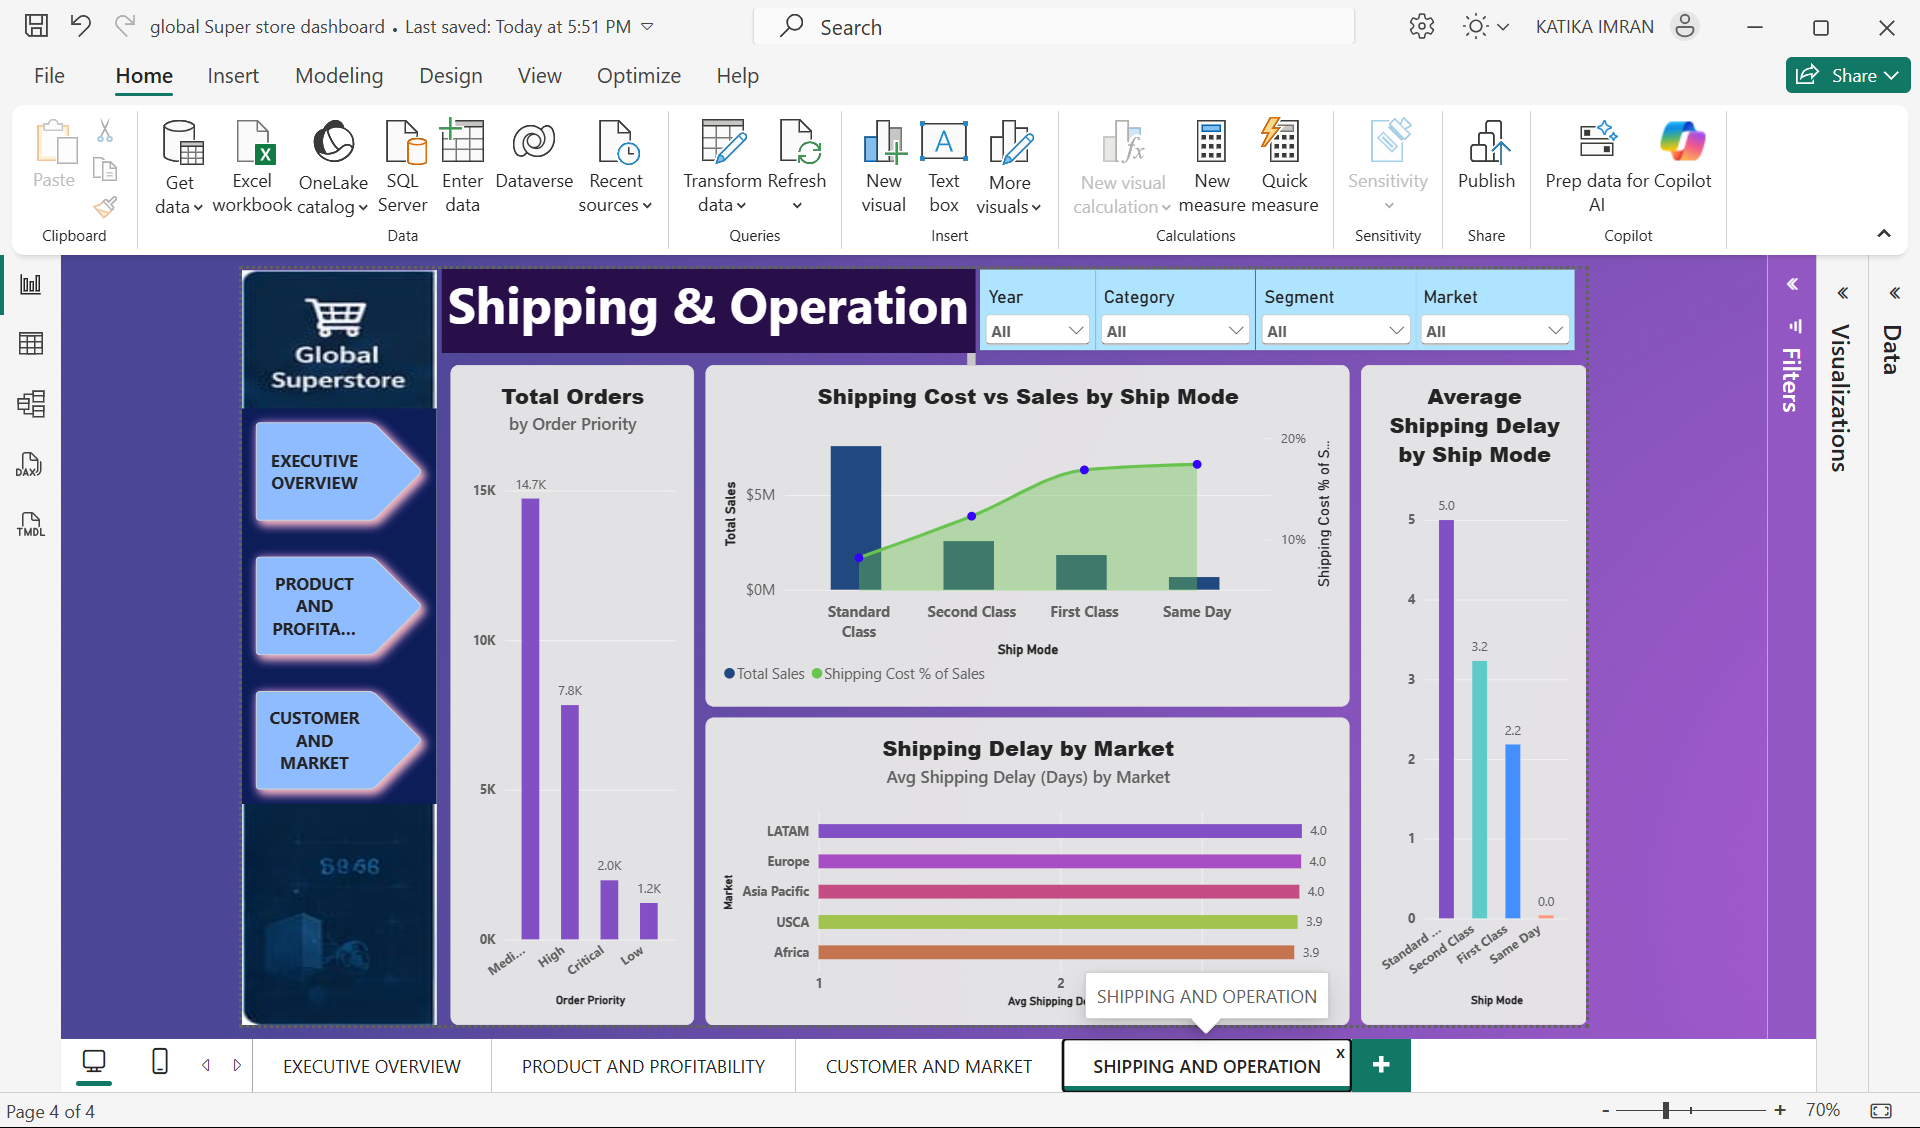

The dashboard page shown, as its layout file describes it:
{"tool":"powerbi","page":{"name":"SHIPPING AND OPERATION","canvas":[1280,720],"ordinal":3},"visuals":[{"type":"clusteredColumnChart","title":"Average Shipping Delay by Ship Mode","fields":{"Category":["Orders.Ship Mode"],"Y":["_Measures.Avg Shipping Delay (Days)"]},"box":[1065,91.7,215,628.3],"z":0},{"type":"clusteredColumnChart","fields":{"Category":["Orders.Order Priority"],"Y":["_Measures.Total Orders"]},"box":[198.3,91.7,231.7,628.3],"z":1000},{"type":"lineStackedColumnComboChart","title":" Shipping Cost vs Sales by Ship Mode","fields":{"Category":["Orders.Ship Mode"],"Y":["_Measures.Total Sales"],"Y2":["_Measures.Shipping Cost % of Sales"]},"box":[441.7,91.7,613.3,325],"z":2000},{"type":"clusteredBarChart","title":"Shipping Delay by Market","fields":{"Category":["Orders.Market"],"Y":["_Measures.Avg Shipping Delay (Days)"]},"box":[441.7,426.7,613.3,293.3],"z":3000},{"type":"slicer","fields":{"Values":["Orders.Category"]},"box":[813.3,0,152.1,77],"z":6000},{"type":"slicer","fields":{"Values":["Orders.Market"]},"box":[1117,0,152.1,77],"z":7000},{"type":"slicer","fields":{"Values":["Orders.Segment"]},"box":[965,0,152.1,77],"z":8000},{"type":"slicer","fields":{"Values":["Date.Year"]},"box":[703.3,0,109.8,77],"z":9000},{"type":"shape","box":[0,0,184.7,720],"z":9001},{"type":"textbox","title":"Shipping & Operation","box":[190,0,508.3,91.7],"z":9002},{"type":"actionButton","box":[0,1.7,185,718.3],"z":9003},{"type":"pageNavigator","box":[0,133.3,185,376.7],"z":9004}]}

Visuals, with their boxes on the page's 1280x720 design canvas (x1, y1, x2, y2). These are canvas units, not pixel positions in the 1920x1128 screenshot, which may show the page scaled, cropped or inside an application window:
"Average Shipping Delay by Ship Mode" clusteredColumnChart: detection(1065, 92, 1280, 720)
clusteredColumnChart - Orders.Order Priority x _Measures.Total Orders: detection(198, 92, 430, 720)
" Shipping Cost vs Sales by Ship Mode" lineStackedColumnComboChart: detection(442, 92, 1055, 417)
"Shipping Delay by Market" clusteredBarChart: detection(442, 427, 1055, 720)
slicer - Orders.Category: detection(813, 0, 965, 77)
slicer - Orders.Market: detection(1117, 0, 1269, 77)
slicer - Orders.Segment: detection(965, 0, 1117, 77)
slicer - Date.Year: detection(703, 0, 813, 77)
shape: detection(0, 0, 185, 720)
"Shipping & Operation" textbox: detection(190, 0, 698, 92)
actionButton: detection(0, 2, 185, 720)
pageNavigator: detection(0, 133, 185, 510)
